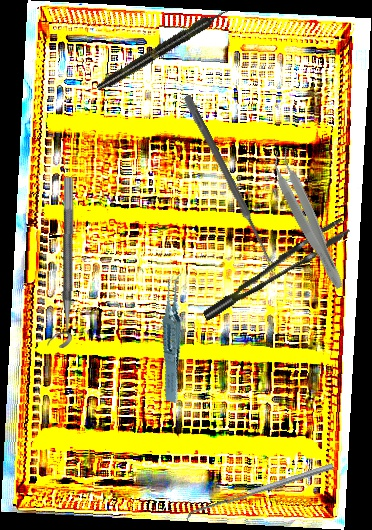Fixation Ring: (46, 176, 75, 349)
Handpiece: (94, 5, 231, 94)
Spatula Surgical: (183, 463, 337, 523)
Surgical Spoon: (182, 94, 279, 273)
Tissue Forceps: (192, 216, 358, 322), (264, 145, 354, 293), (138, 270, 211, 404)
